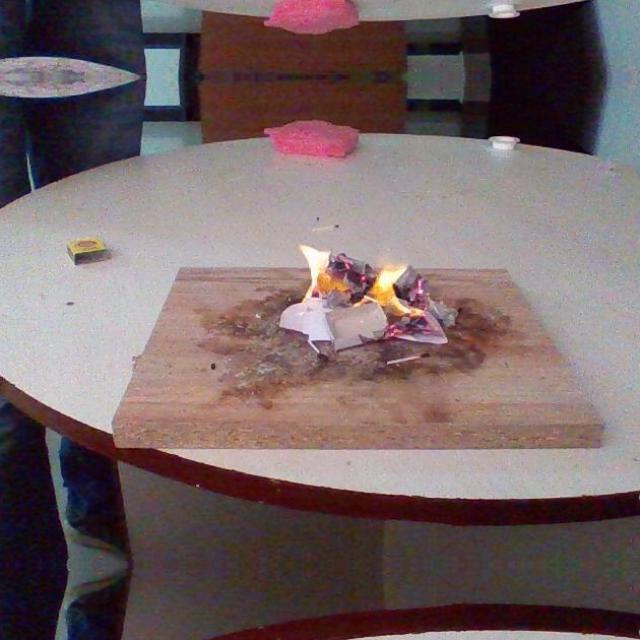smoke: (353, 264, 425, 313), (295, 244, 333, 304)
